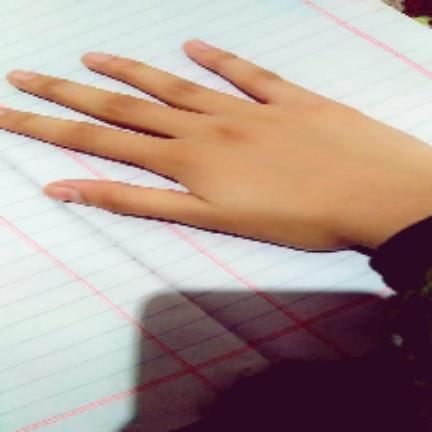Nail: (45, 186, 81, 201), (185, 39, 208, 52), (8, 70, 35, 79), (87, 52, 110, 62)
